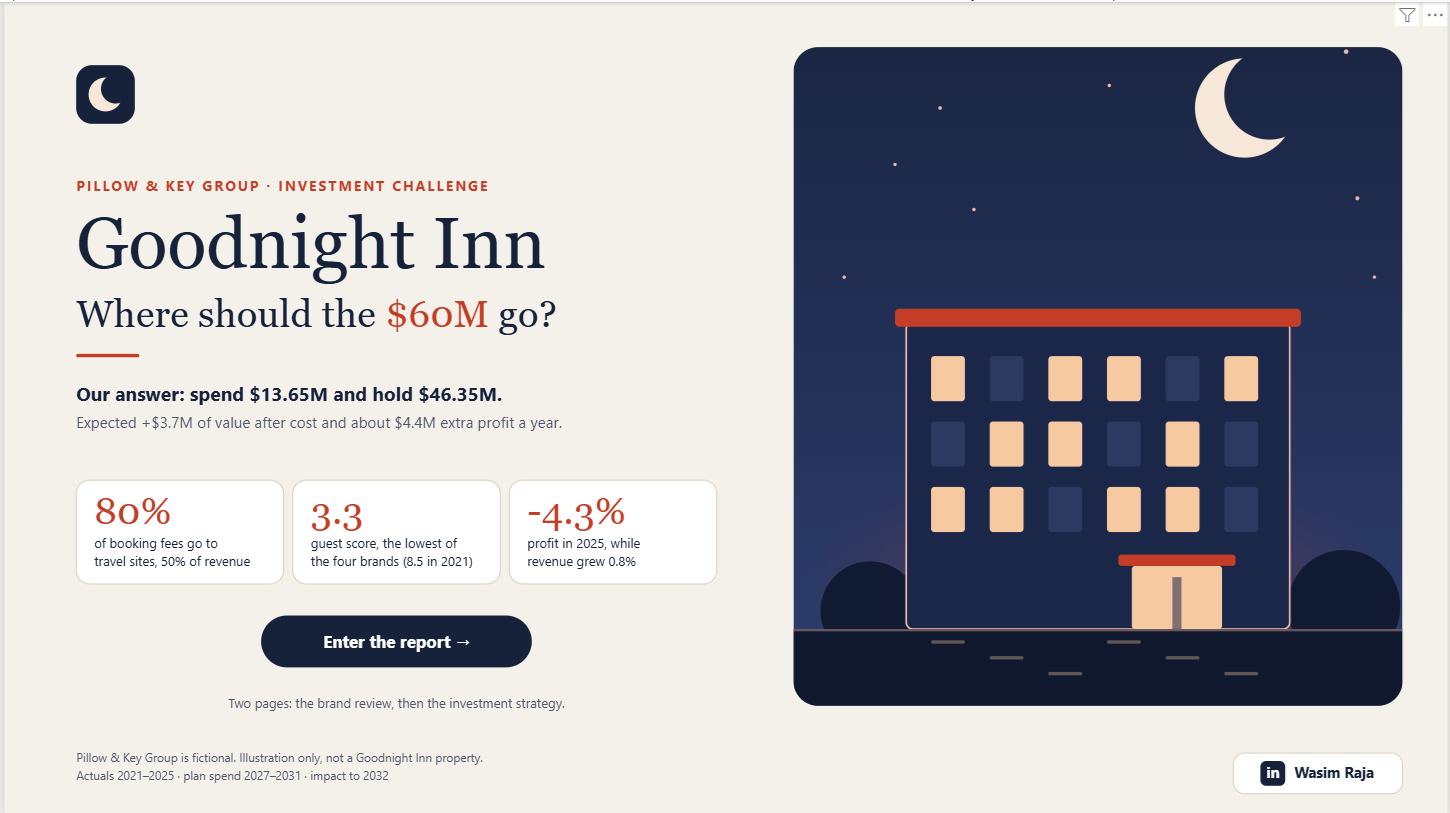

What the dashboard file says about the page in this screenshot:
{"tool":"powerbi","page":{"name":"Brand Review","canvas":[1280,720],"ordinal":0},"visuals":[{"type":"cardVisual","title":"Masthead logo","fields":{"Data":["_Measures.Nav moon SVG"]},"box":[24,8,52,52],"z":22000},{"type":"cardVisual","title":"Cover art","fields":{"Data":["_Measures.Cover SVG"]},"box":[0,0,1280,720],"z":36000},{"type":"actionButton","title":"Cover LinkedIn button","box":[1090,666,150,36],"z":37000},{"type":"actionButton","title":"Cover enter button","box":[228,544,240,46],"z":38000}]}

Visuals, with their boxes on the page's 1280x720 design canvas (x1, y1, x2, y2). These are canvas units, not pixel positions in the 1450x813 screenshot, which may show the page scaled, cropped or inside an application window:
"Masthead logo" cardVisual: (x1=24, y1=8, x2=76, y2=60)
"Cover art" cardVisual: (x1=0, y1=0, x2=1280, y2=720)
"Cover LinkedIn button" actionButton: (x1=1090, y1=666, x2=1240, y2=702)
"Cover enter button" actionButton: (x1=228, y1=544, x2=468, y2=590)
